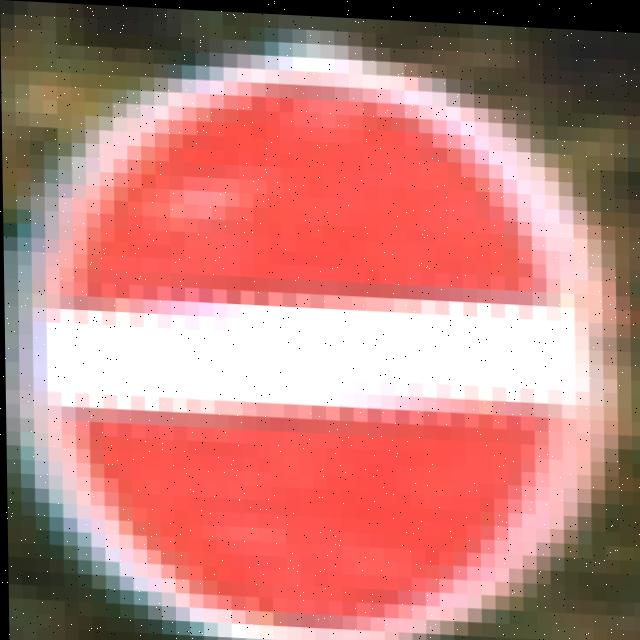road_rough: (19, 38, 586, 640)
